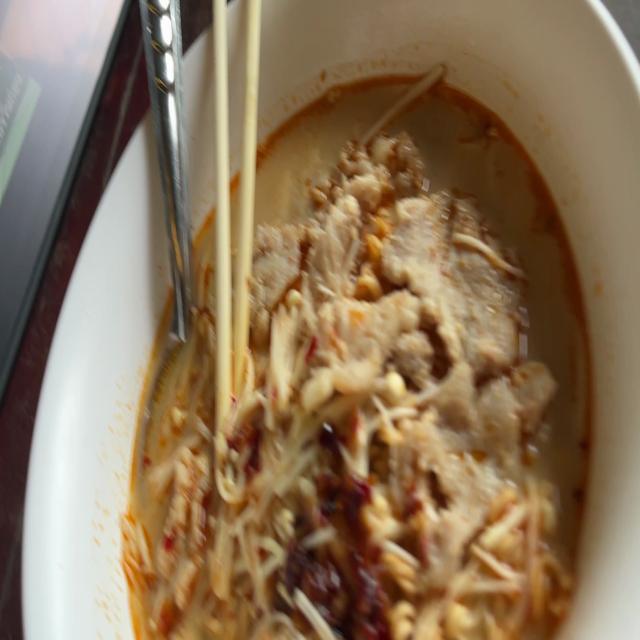noodle: (115, 68, 603, 640)
